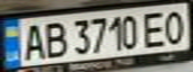0: (121, 11, 142, 51)
1: (106, 12, 127, 51)
3: (69, 16, 93, 55)
7: (87, 15, 109, 53)
A: (18, 20, 48, 61)
B: (39, 19, 69, 60)
E: (139, 8, 172, 48)
O: (160, 7, 190, 45)
